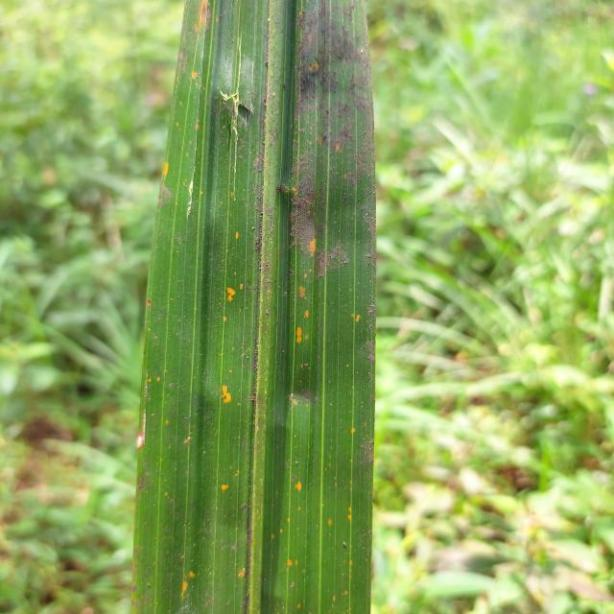Kalium: (133, 0, 379, 614)
